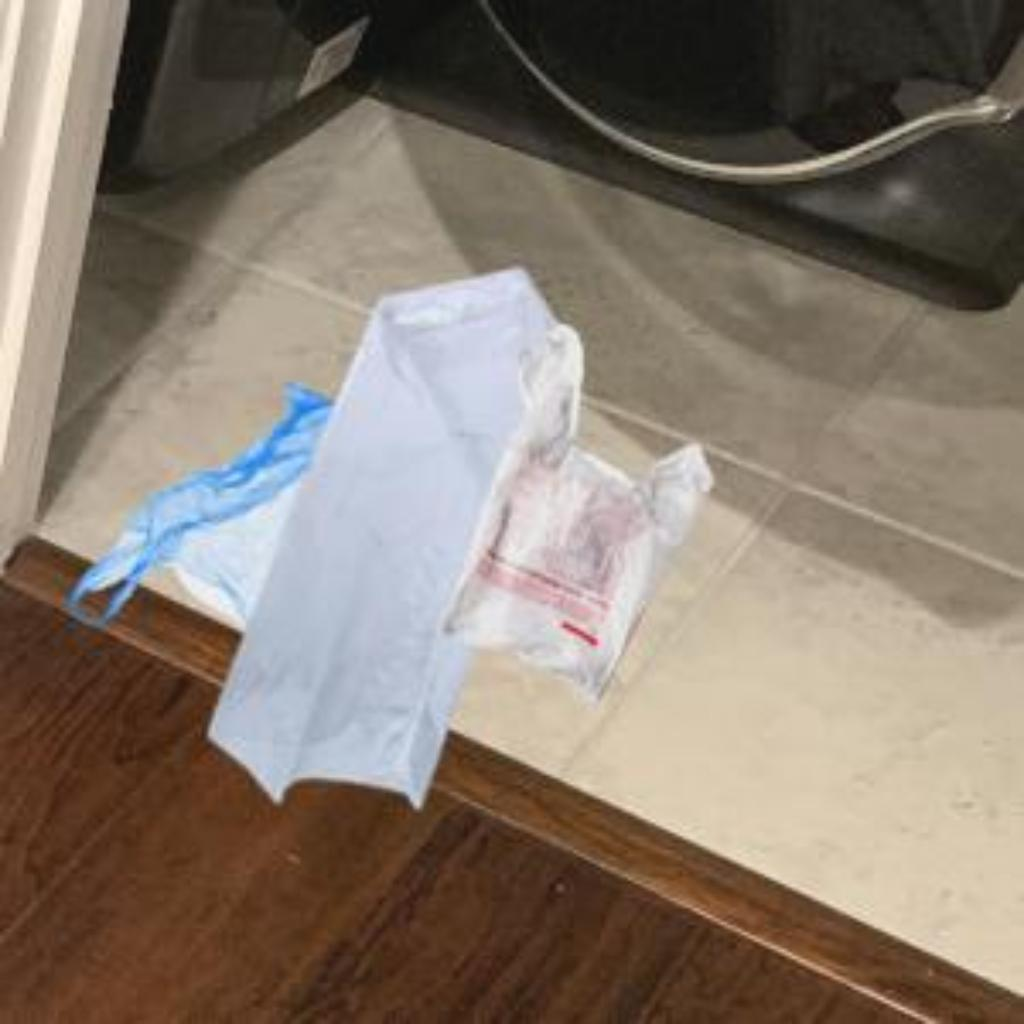garbage: (270, 218, 519, 850), (464, 324, 700, 710), (53, 365, 333, 631)
